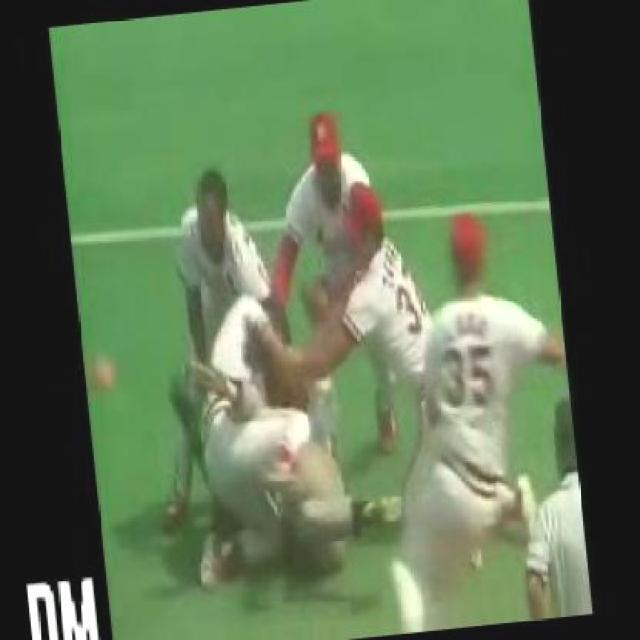fight: (165, 288, 388, 590)
